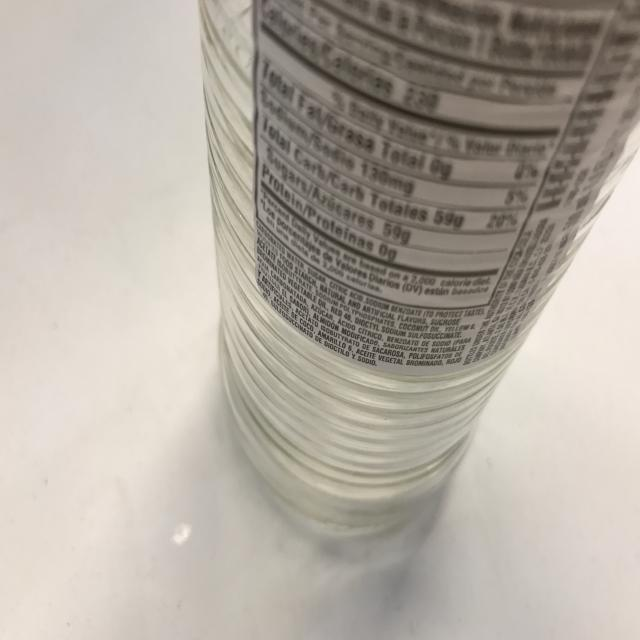glass: (195, 0, 640, 538)
